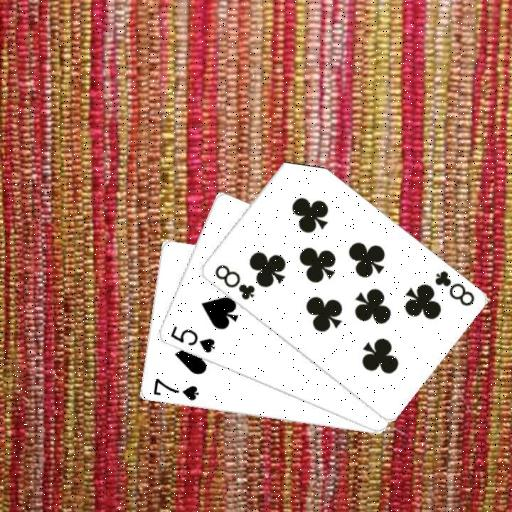5S: (167, 323, 217, 355)
7S: (150, 376, 200, 403)
8C: (431, 267, 476, 308), (211, 261, 256, 301)
